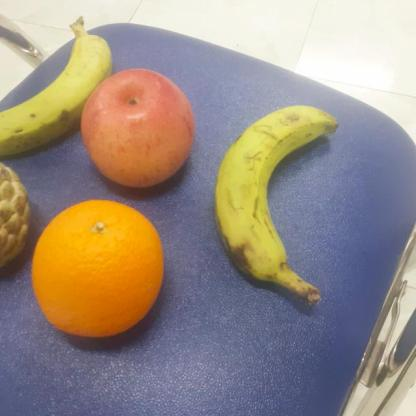annona: (1, 157, 32, 273)
apple: (79, 68, 196, 189)
banana: (212, 103, 342, 282), (0, 28, 118, 155)
orange: (30, 198, 164, 340)
